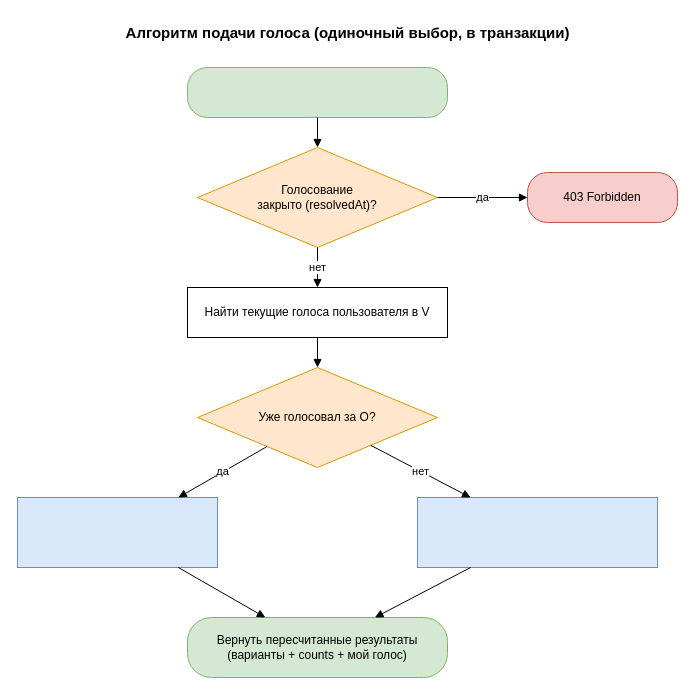
This 695x695 diagram has some shape labels left out. Here are the shapes that lost their labels. From the top down, the centre of each, then its label:
At point (317, 92): "Клик по варианту O в голосовании V".
At point (117, 532): "Транзакция: удалить голос (снятие)".
At point (537, 532): "Транзакция: удалить прежние голоса + создать голос за O (перенос)".
